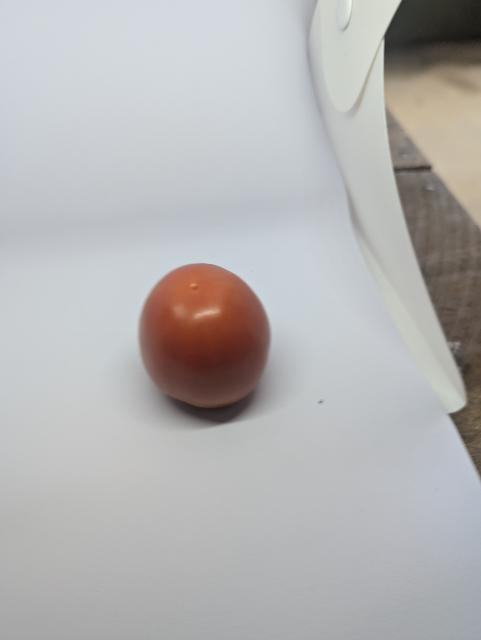red: (134, 257, 276, 420)
